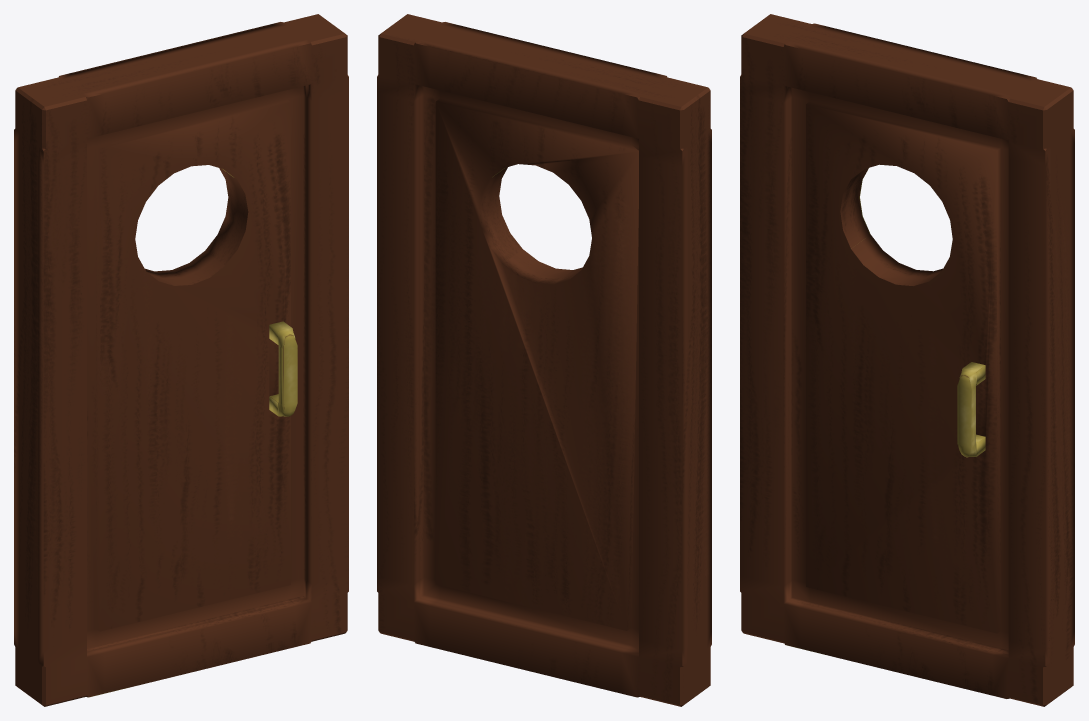
File: Door_Porthole.fbx
3 renders of one model, left to right at view 1: azimuth 30°, elevation 25°; view 2: azimuth 150°, elevation 25°; view 3: azimuth 330°, elevation 25°, orthographic.
Visible parts, largest first — view 1: polySurface2; view 2: polySurface2; view 3: polySurface2.
Boxes of the visible parts, x1,y1,x2,y2 form: polySurface2: (14, 14, 348, 706); polySurface2: (377, 14, 711, 706); polySurface2: (740, 14, 1074, 706).
Bounding box in the file's own units: 128 × 240 × 29.7.
